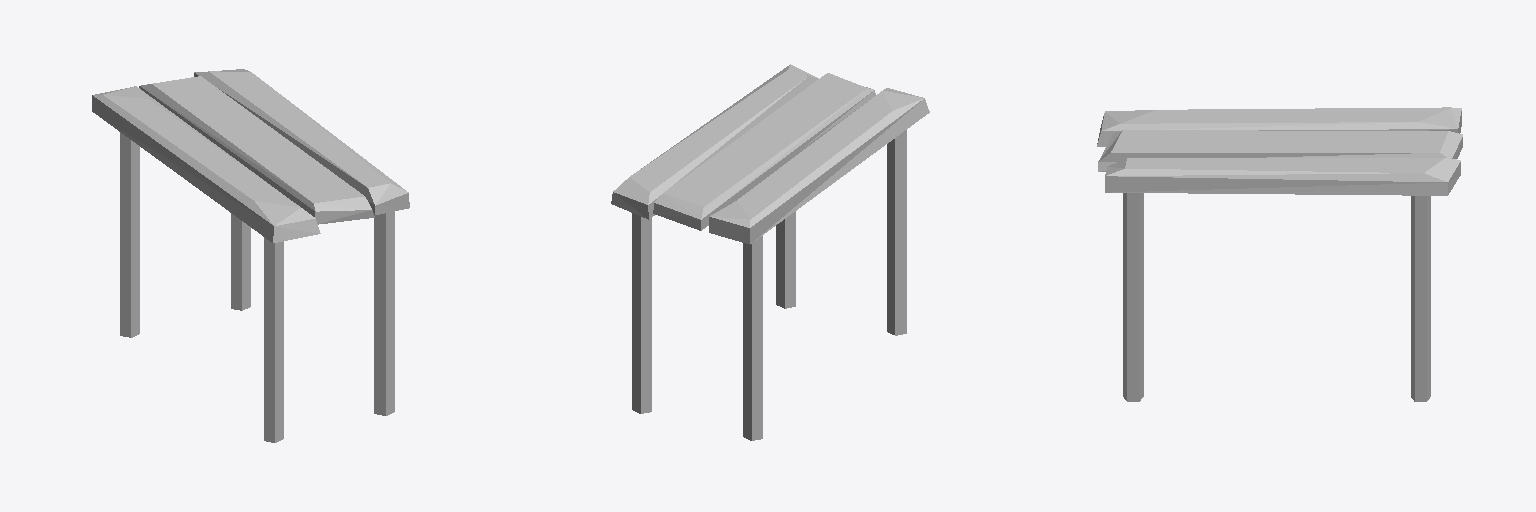
The model's file is Table.obj.
The picture shows the model from 3 angles: view 1: azimuth 30°, elevation 25°; view 2: azimuth 150°, elevation 25°; view 3: azimuth 270°, elevation 25°; orthographic projection.
Parts seen in each view (by area): view 1: Cube.012; view 2: Cube.012; view 3: Cube.012.
Boxes of the visible parts, x1=… form: Cube.012: x1=92, y1=69, x2=409, y2=442; Cube.012: x1=611, y1=64, x2=929, y2=440; Cube.012: x1=1097, y1=107, x2=1462, y2=401.
Bounding box in the file's own units: 1.34 × 2.02 × 2.91.